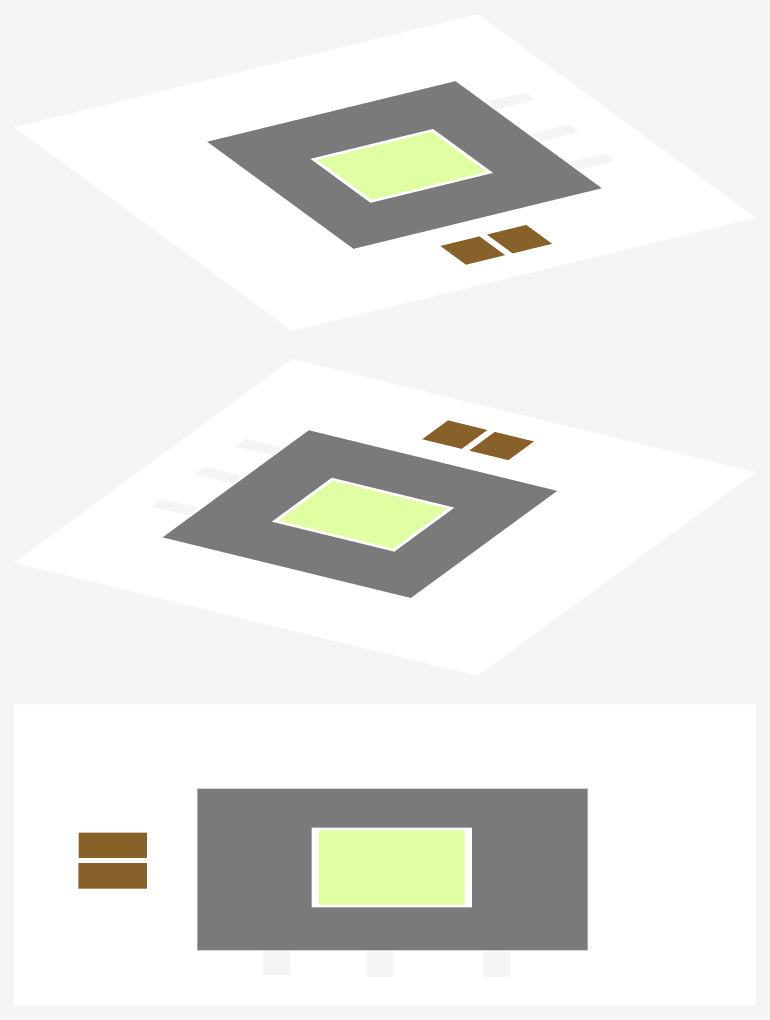
3 renders of one model, top to bottom at view 1: azimuth 30°, elevation 25°; view 2: azimuth 150°, elevation 25°; view 3: azimuth 270°, elevation 25°, orthographic. The views are drawn at different scales.
Parts seen in each view (by area): view 1: Plane.015, Plane.004, Plane.028, Plane.029, Plane.003, Plane.032; view 2: Plane.015, Plane.004, Plane.028, Plane.029, Plane.003, Plane.032; view 3: Plane.015, Plane.004, Plane.028, Plane.029, Plane.003, Plane.032.
Part boxes in pixels (bbox=[...]): Plane.015: bbox=[14, 14, 755, 330]; Plane.004: bbox=[207, 81, 601, 248]; Plane.028: bbox=[317, 132, 485, 199]; Plane.029: bbox=[310, 129, 492, 202]; Plane.003: bbox=[487, 225, 551, 253]; Plane.032: bbox=[441, 236, 504, 264]; Plane.015: bbox=[14, 359, 755, 675]; Plane.004: bbox=[163, 430, 556, 597]; Plane.028: bbox=[279, 480, 447, 548]; Plane.029: bbox=[272, 478, 453, 551]; Plane.003: bbox=[422, 420, 486, 448]; Plane.032: bbox=[469, 432, 533, 459]; Plane.015: bbox=[14, 704, 755, 1005]; Plane.004: bbox=[197, 788, 587, 950]; Plane.028: bbox=[319, 830, 464, 904]; Plane.029: bbox=[311, 827, 471, 907]; Plane.003: bbox=[78, 863, 146, 888]; Plane.032: bbox=[78, 832, 146, 857].
Size of what is drawn, in the model's own units: 43.42 by 0.0199 by 45.15.
